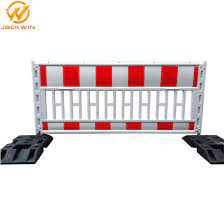obstacle: (4, 59, 224, 171)
